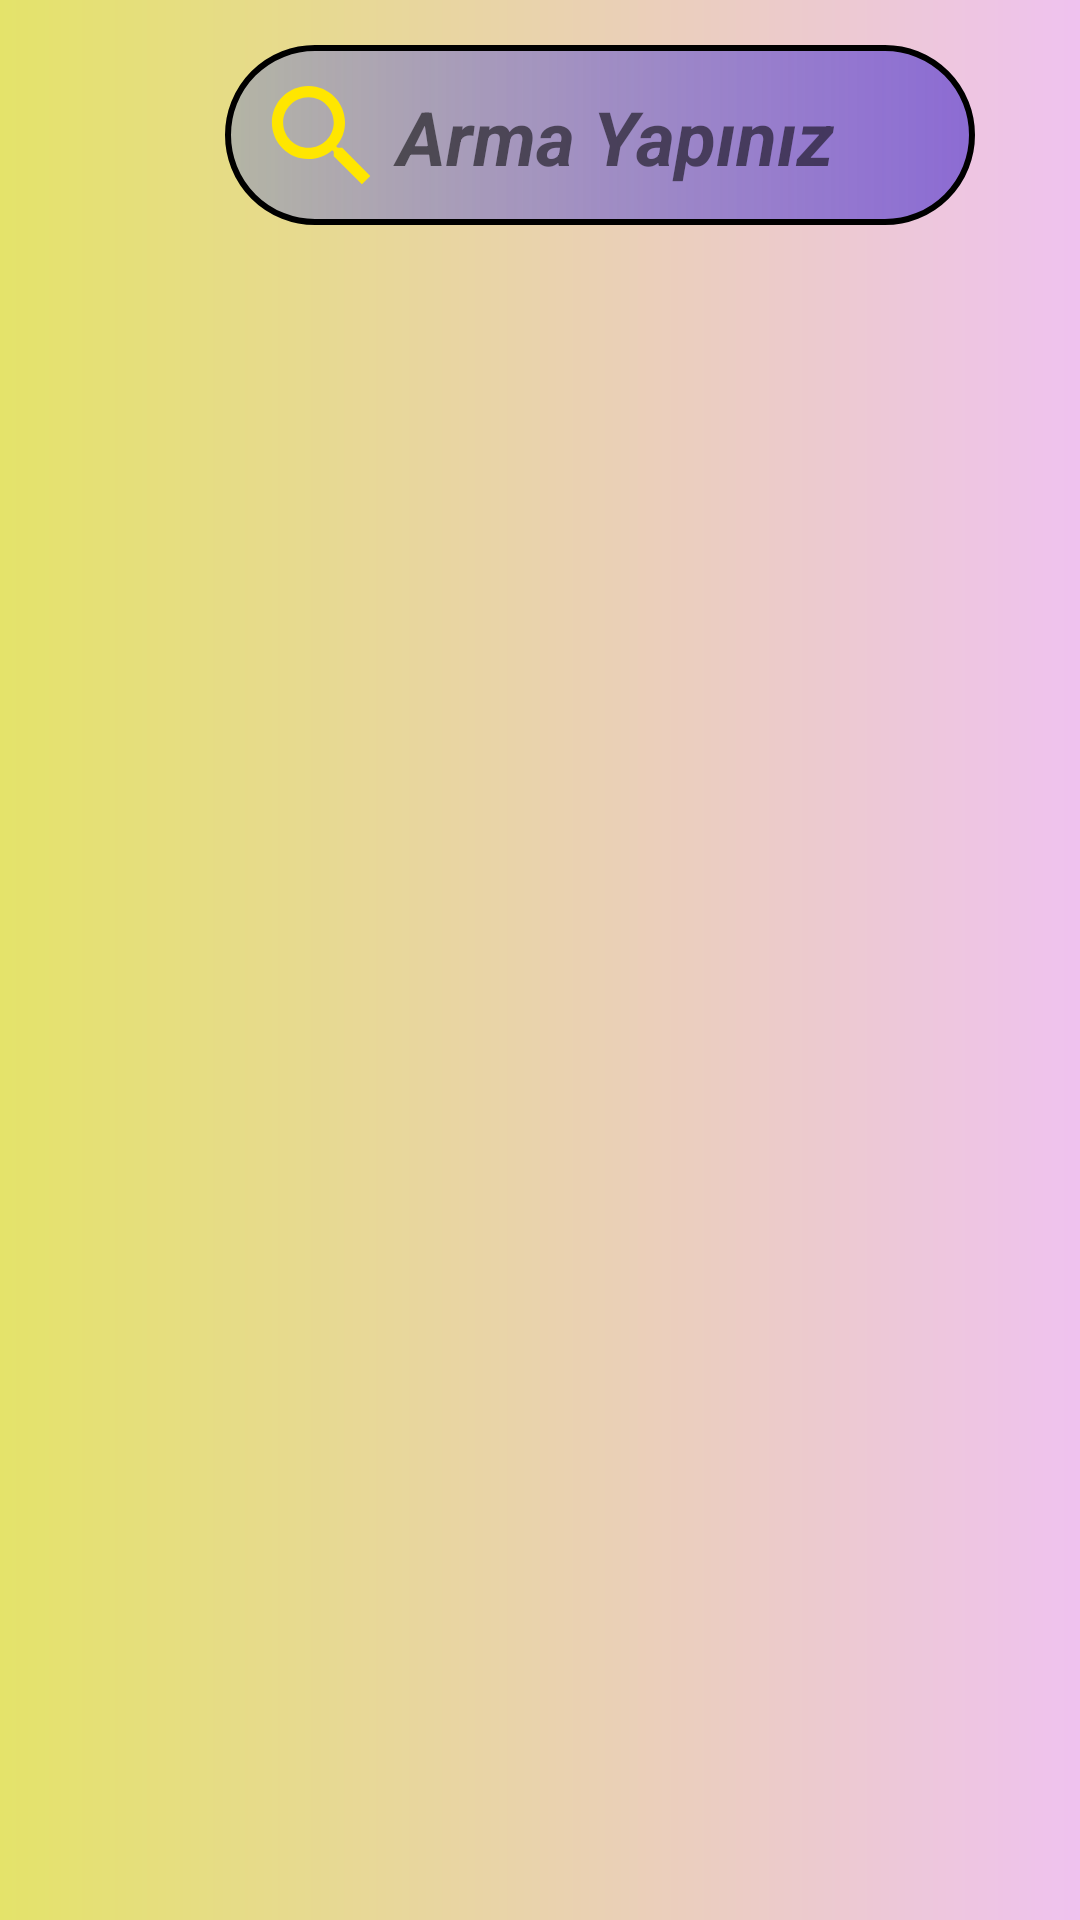

Where icons sit on this 1080 × 1920 app screen, as (x1, y1, x2, y2):
search: (271, 86, 370, 184)
